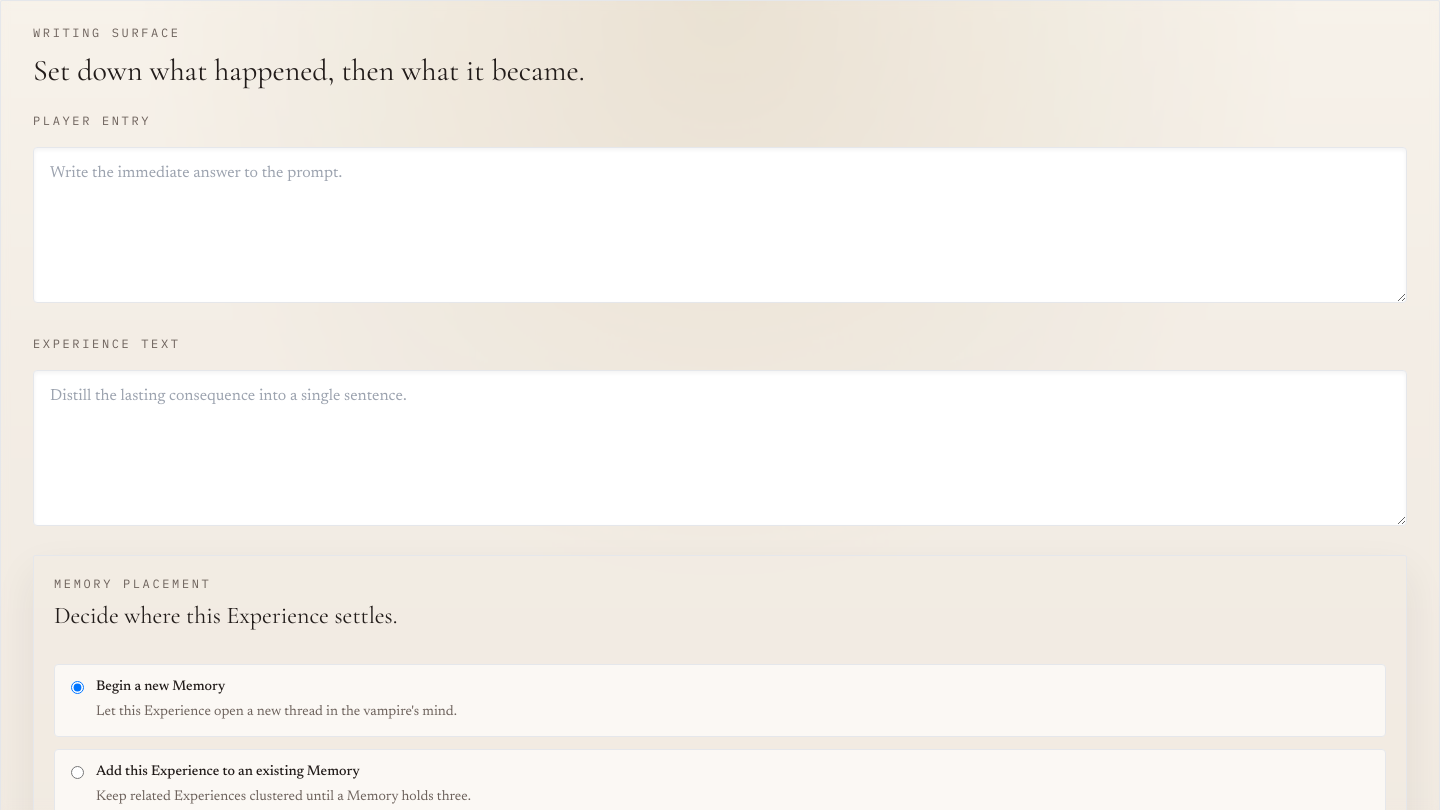
Test case: guided setup flow › disables full memories in the append-existing picker
The width and height of the screenshot is (1440, 810).
Click the radio button labelled "Add this Experience to an existing Memory" at [78, 773], box [71,766,84,779]
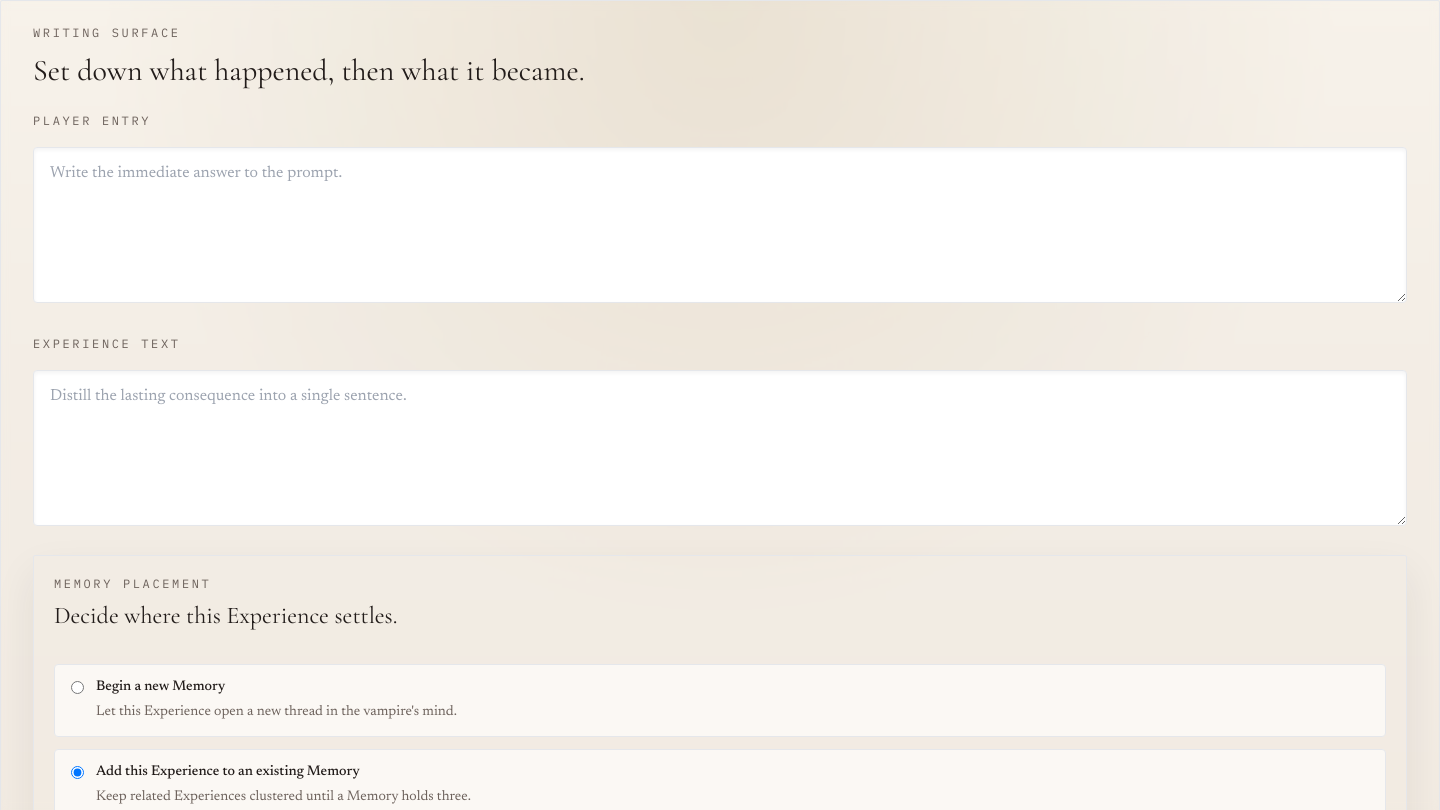
Type "I answered the prompt." into the text box labelled "Player entry" at [720, 225], box [33,147,1407,303]
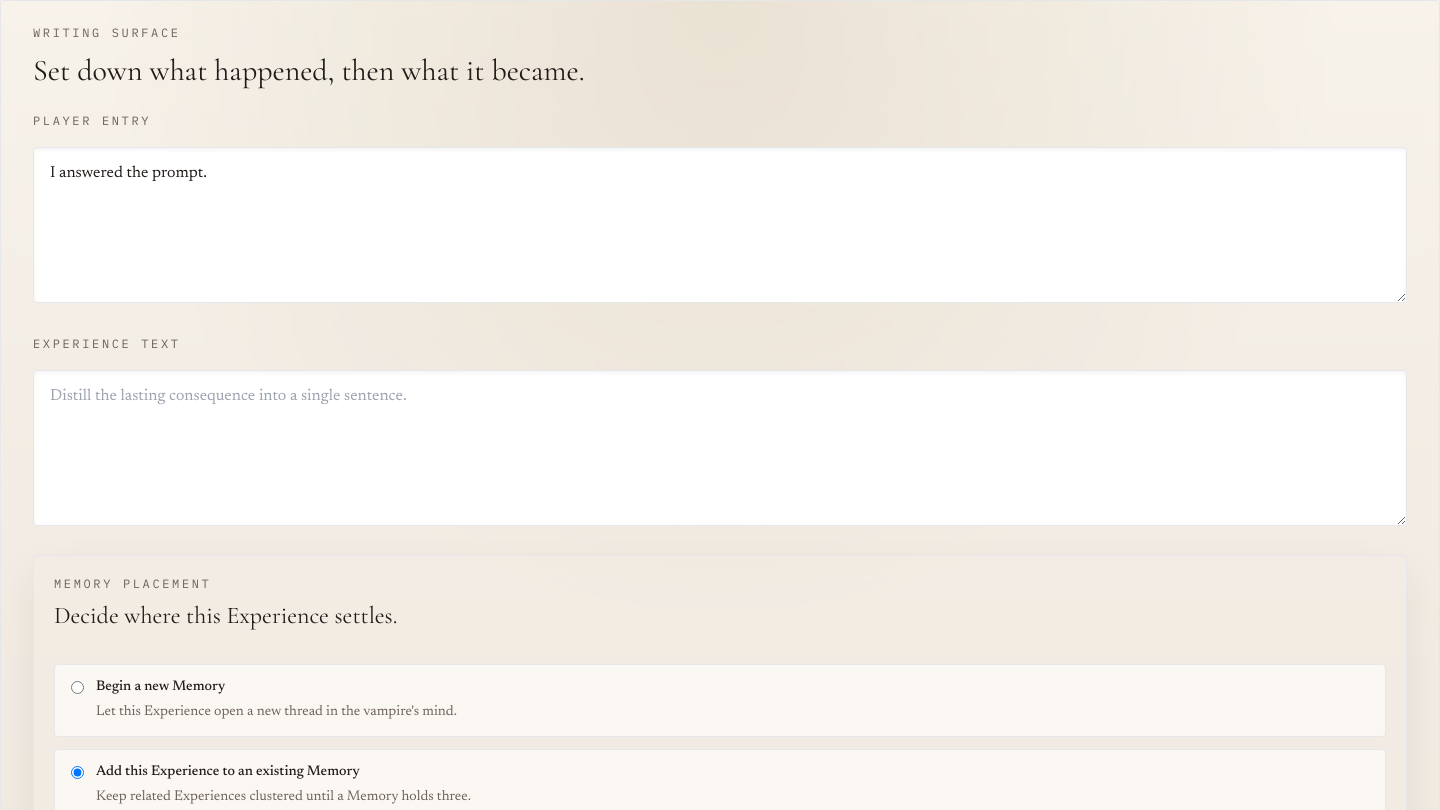
Type "I carried the consequence forward." into the text box labelled "Experience text" at [720, 448], box [33,370,1407,526]
(page scrolled)
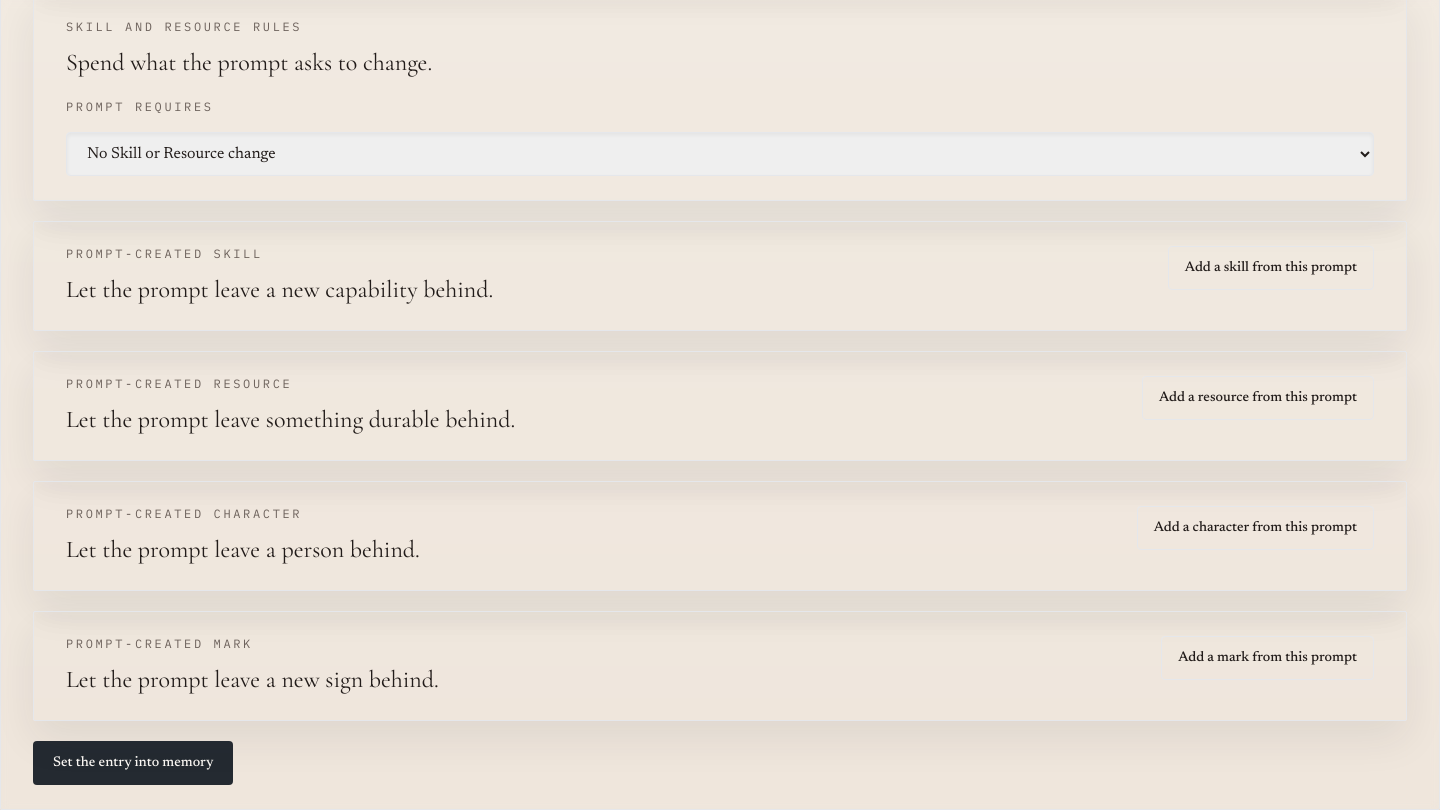
Click the button "Set the entry into memory" at [133, 763], box [33,741,233,785]
(page scrolled)
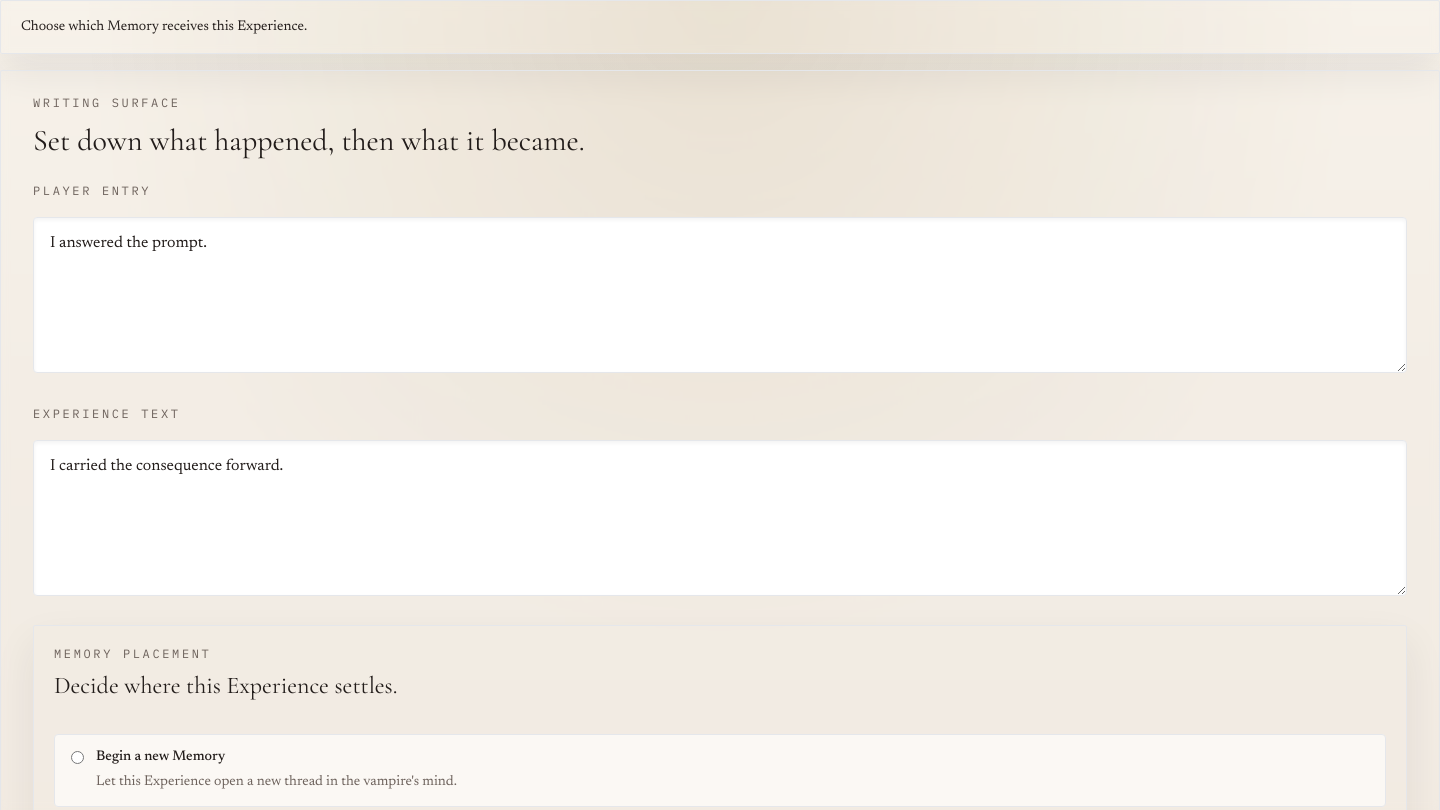
Expected: the text "Choose which Memory receives this Experience." is shown, [21,20,307,34]
